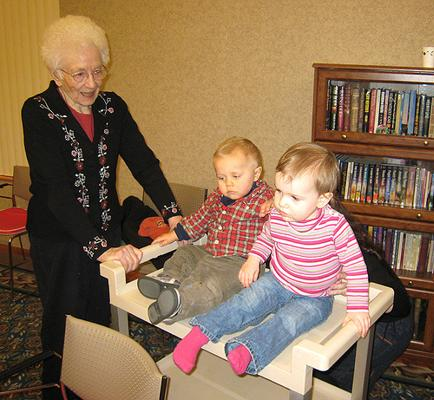person: (20, 10, 199, 400)
